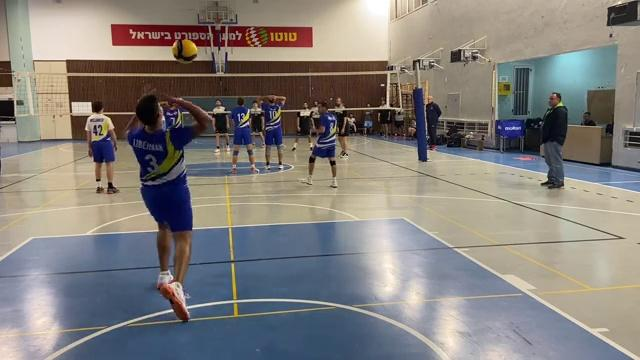ball: (171, 35, 203, 71)
